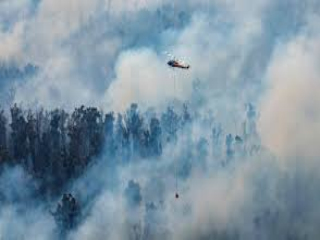smoke: (91, 93, 264, 192)
